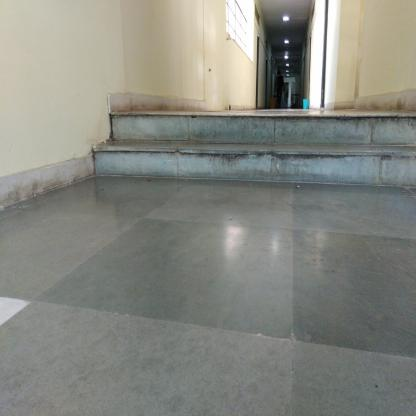stairs: (111, 108, 416, 192)
